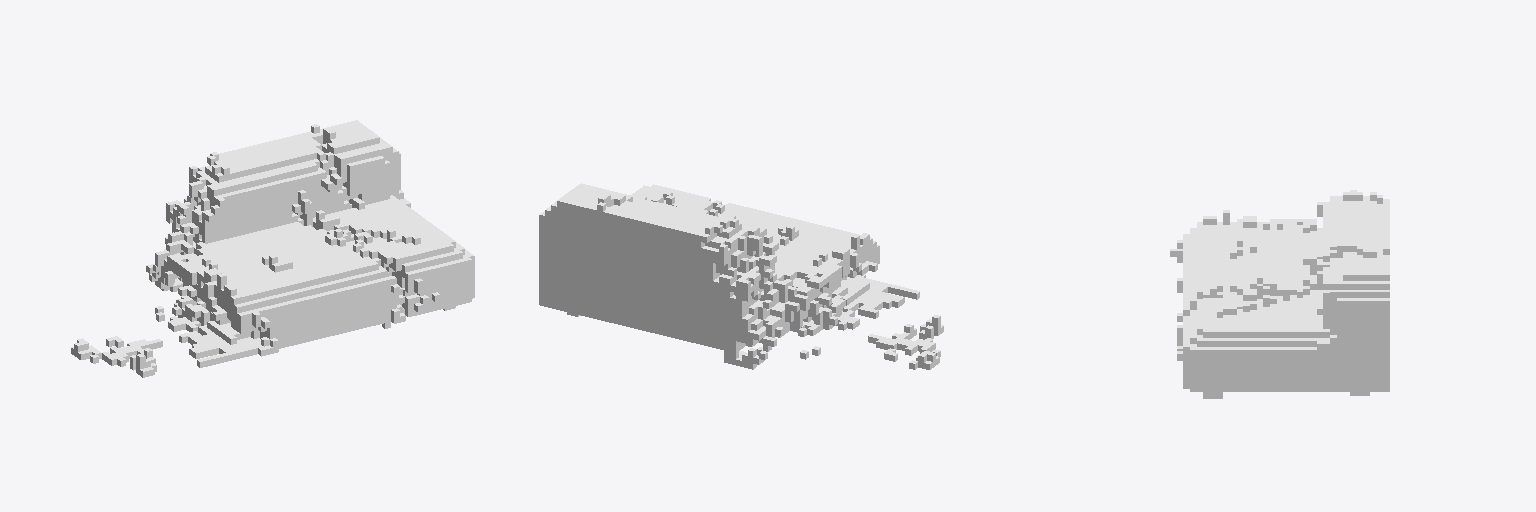
The model's file is sofa-green-3.vox.obj.
3 renders of one model, left to right at view 1: azimuth 30°, elevation 25°; view 2: azimuth 150°, elevation 25°; view 3: azimuth 270°, elevation 25°, orthographic.
Visible parts, largest first — view 1: object 1; view 2: object 1; view 3: object 1.
Part boxes in pixels (x1,y1,x2,y2): object 1: (71,120,474,377); object 1: (539,183,943,369); object 1: (1170,190,1389,398).
Bounding box in the file's own units: 6 × 2.1 × 3.3.